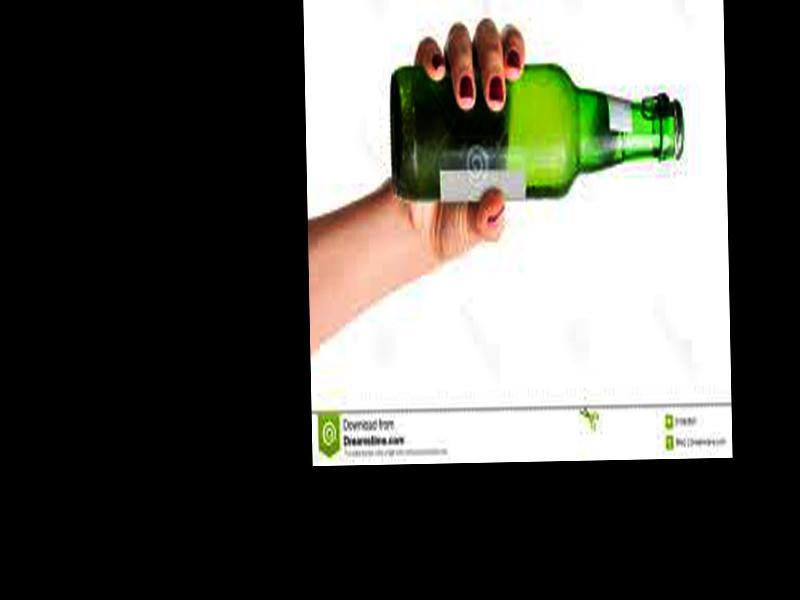Beer: (389, 61, 686, 206)
